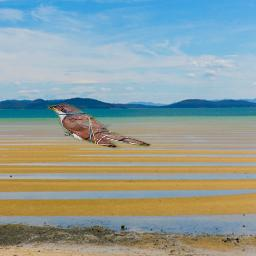Cuckoo: (46, 101, 153, 153)
